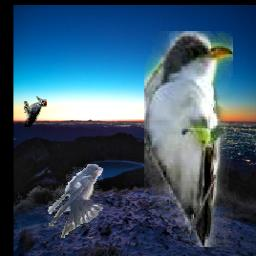Cuckoo: (145, 31, 234, 247)
Swallow: (48, 165, 103, 240)
Woodpecker: (24, 97, 47, 128)
